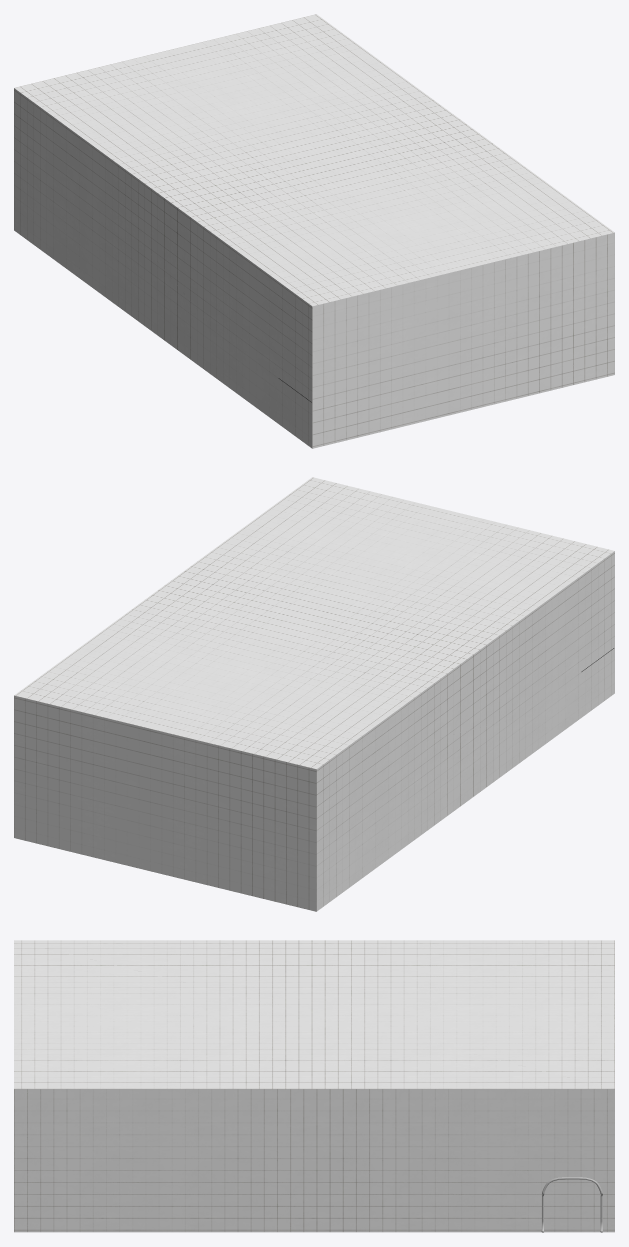
The model's file is Place.fbx.
The picture shows the model from 3 angles, top to bottom: view 1: azimuth 30°, elevation 25°; view 2: azimuth 150°, elevation 25°; view 3: azimuth 270°, elevation 25°; orthographic projection.
Parts seen in each view (by area): view 1: Cube; view 2: Cube; view 3: Cube, Bed.
Part boxes in pixels (box(x1,y1,x2,y2)): Cube: box(14, 14, 614, 448); Cube: box(14, 477, 614, 911); Cube: box(14, 940, 614, 1232); Bed: box(541, 1177, 602, 1232).
Size of the model in its own units: 14138 by 6345 by 24093.
